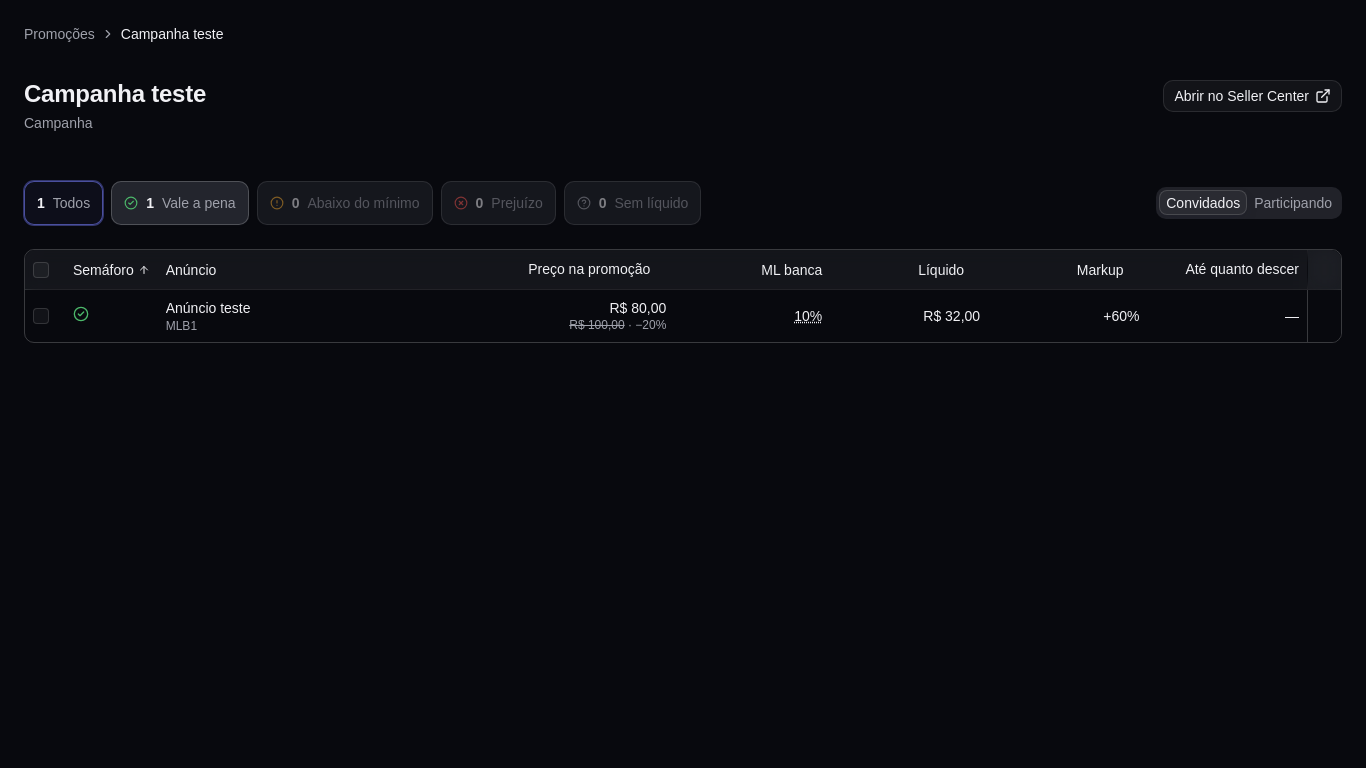
Test: PromocaoDetalhe › achado 2 (revisão): fechar o preview sem executar mantém a seleção
This screenshot has width=1366, height=768.
Click the checkbox named "Selecionar MLB1" at (41, 316), box [33, 308, 49, 324]
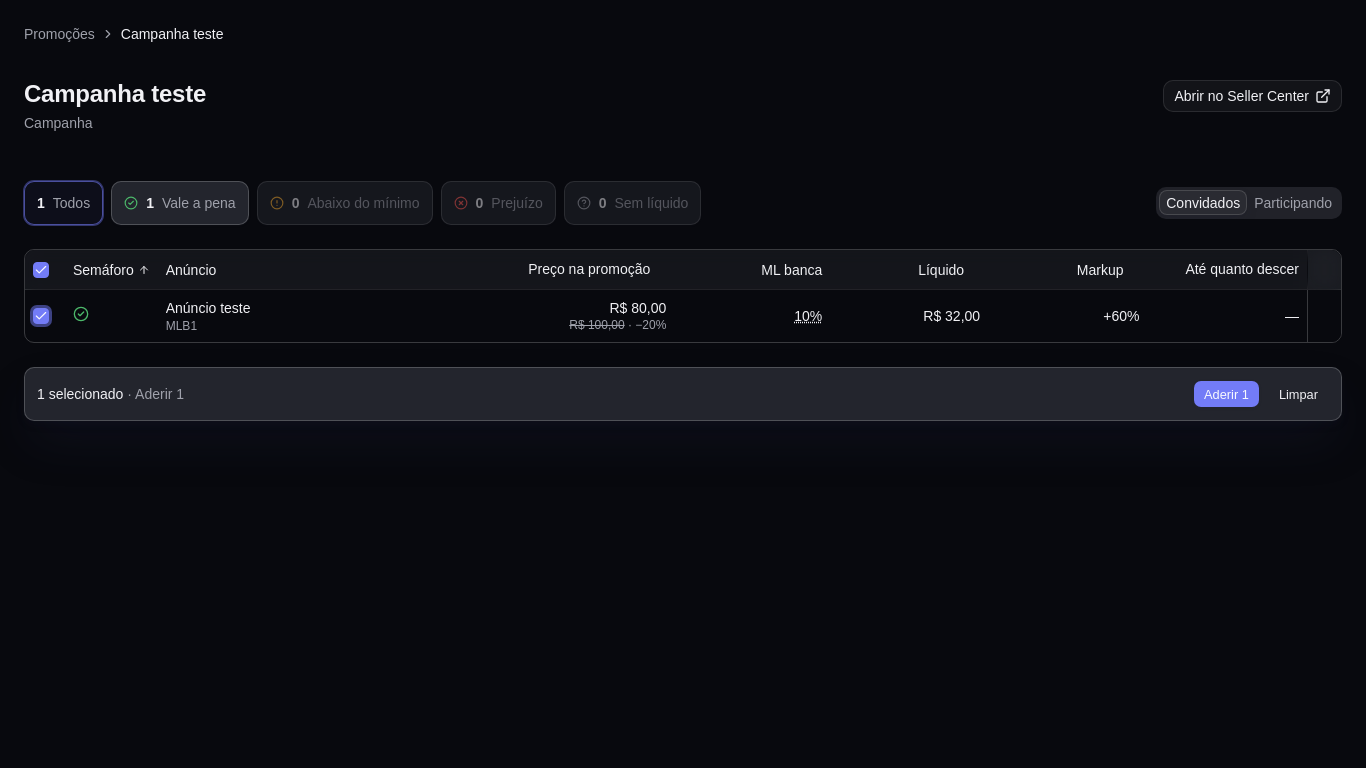
Click the button "Aderir 1" at (1226, 394), box [1193, 380, 1260, 408]
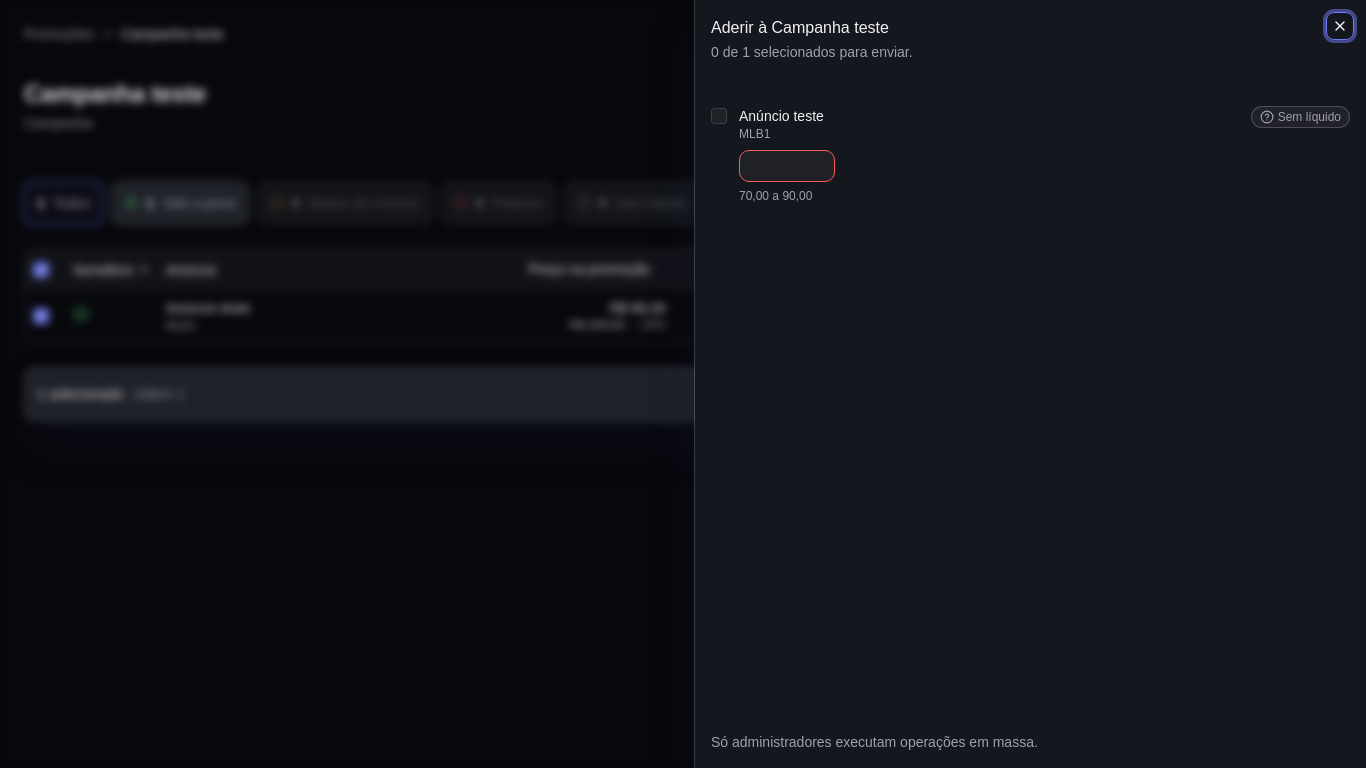
expect the dialog is shown: met, box [694, 0, 1365, 767]
Click the button named "Close" at (1340, 26), box [1326, 12, 1354, 40]
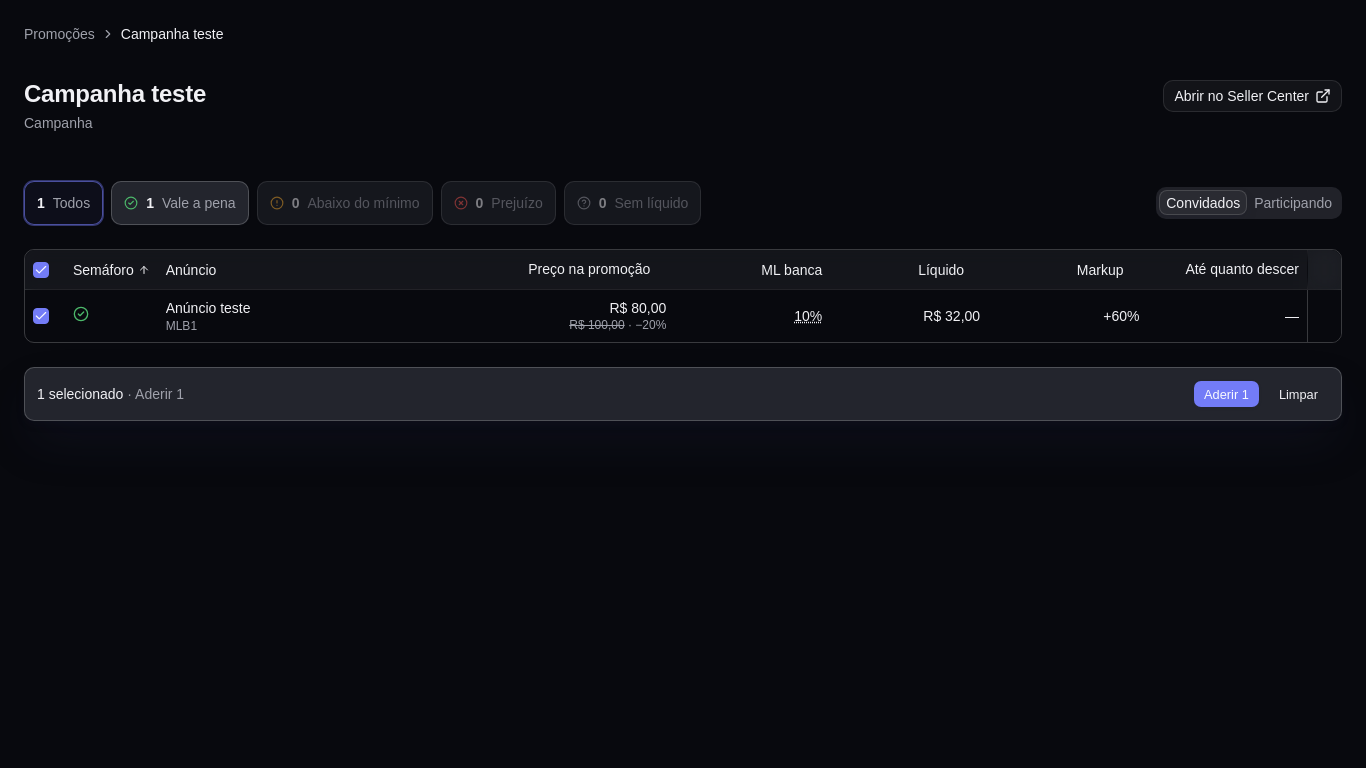
expect the button "Aderir 1" is shown: met, box [1193, 380, 1260, 408]
expect the dialog is gone: met
